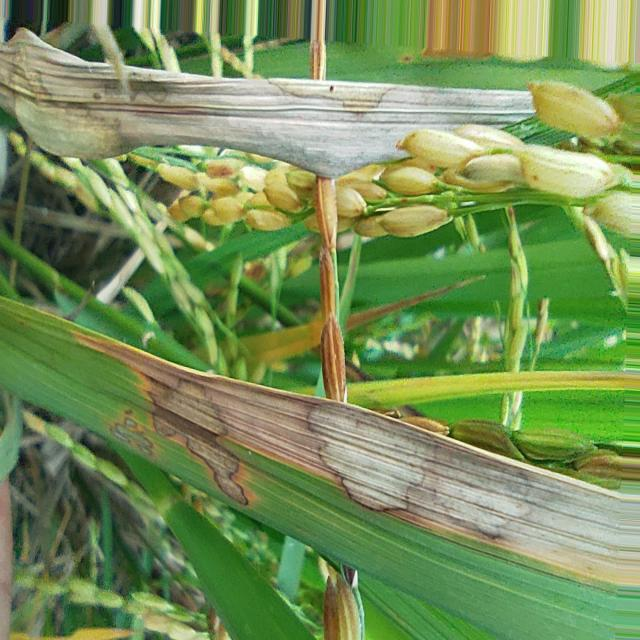Leaf_Blast: (346, 275, 485, 331), (500, 390, 524, 430)
Rice False Smut: (0, 28, 534, 177), (308, 400, 552, 556), (149, 380, 248, 505), (109, 410, 152, 458)
